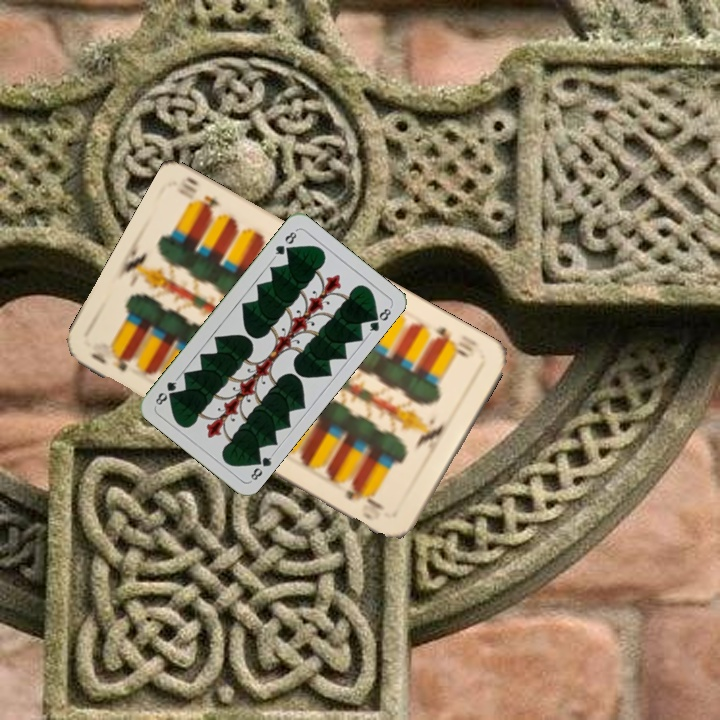E10: (427, 323, 477, 361), (86, 343, 135, 374)
G8: (245, 450, 277, 484), (270, 226, 300, 261)
